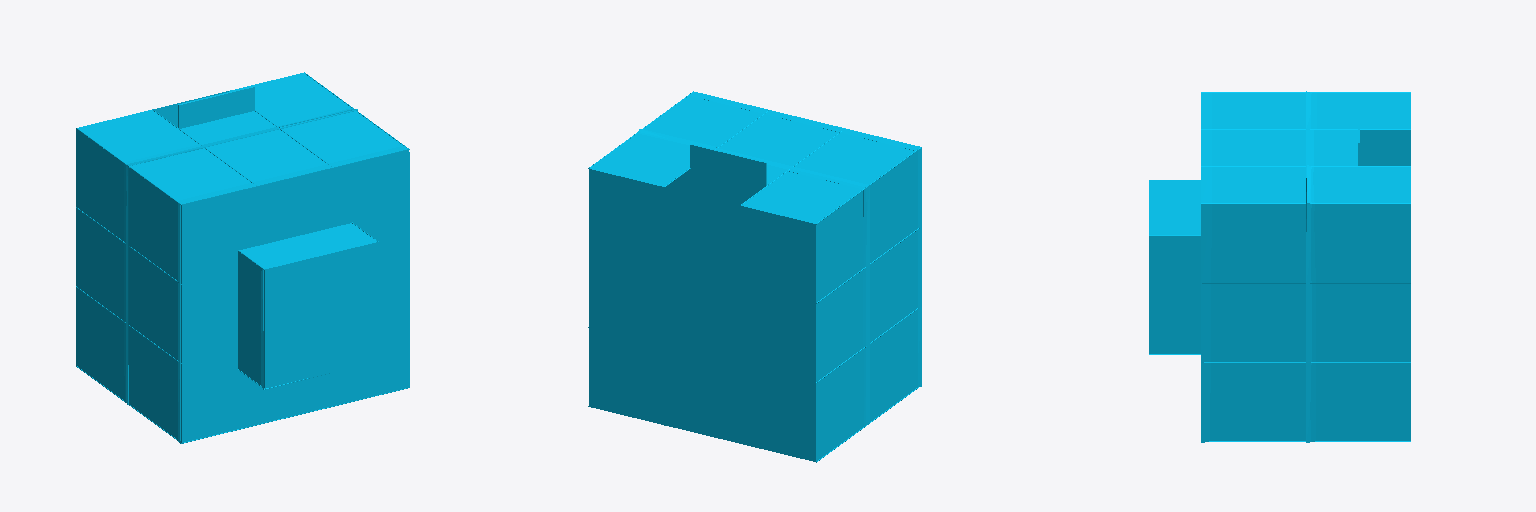
The model's file is shuichang.obj.
The picture shows the model from 3 angles: view 1: azimuth 30°, elevation 25°; view 2: azimuth 150°, elevation 25°; view 3: azimuth 270°, elevation 25°; orthographic projection.
Parts seen in each view (by area): view 1: outbox, lines; view 2: outbox, lines; view 3: outbox, lines.
Part boxes in pixels (x1,y1,x2,y2): outbox: (76, 73, 408, 442); lines: (76, 72, 409, 443); outbox: (589, 96, 917, 461); lines: (588, 91, 921, 462); outbox: (1159, 93, 1410, 440); lines: (1149, 91, 1410, 442).
Size of the model in its own units: 50.6 by 55.23 by 50.